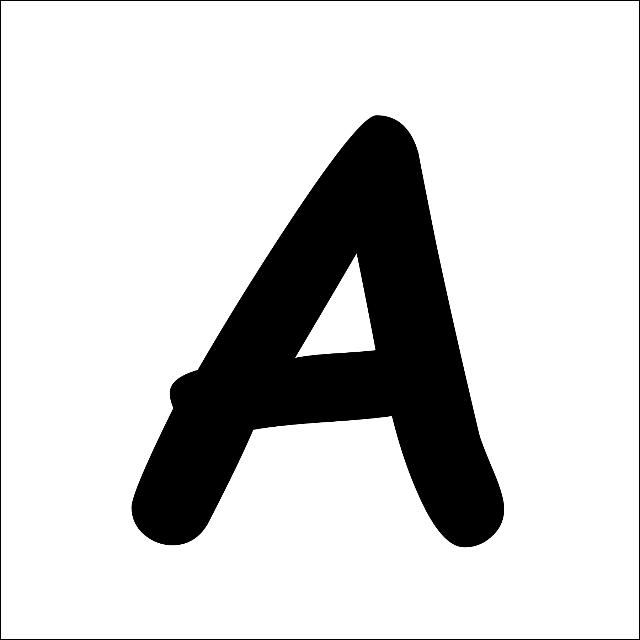A: (132, 116, 504, 546)
